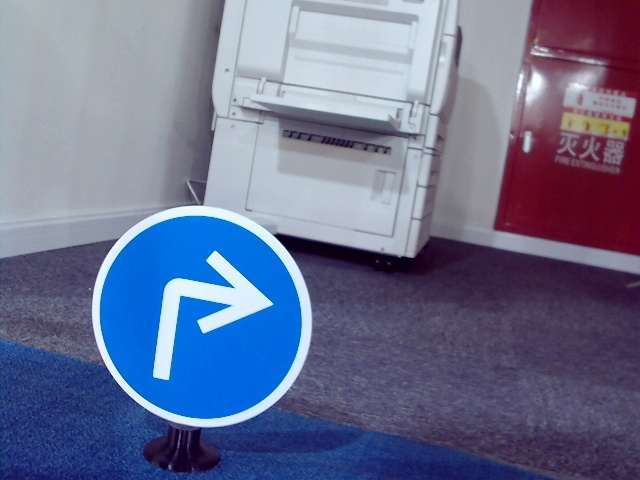turn_right: (148, 246, 276, 382)
